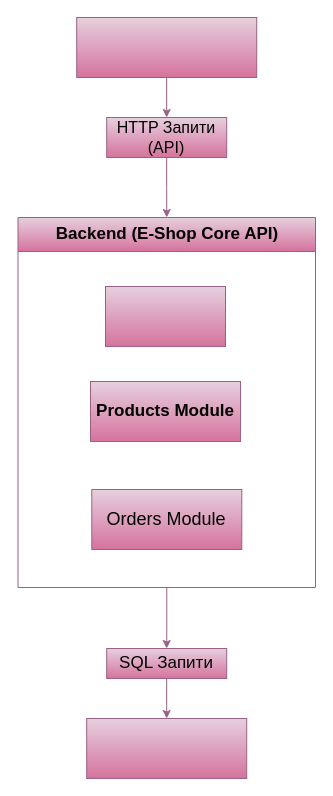
Some shapes in this 333 by 796 pixel diagram are drawn without their labels. The centre of each missing label's shape, as x and y in pixels:
Auth Module: point 165,316
Client (Веб-браузер): point 166,47
Database (SQLite): point 166,748
